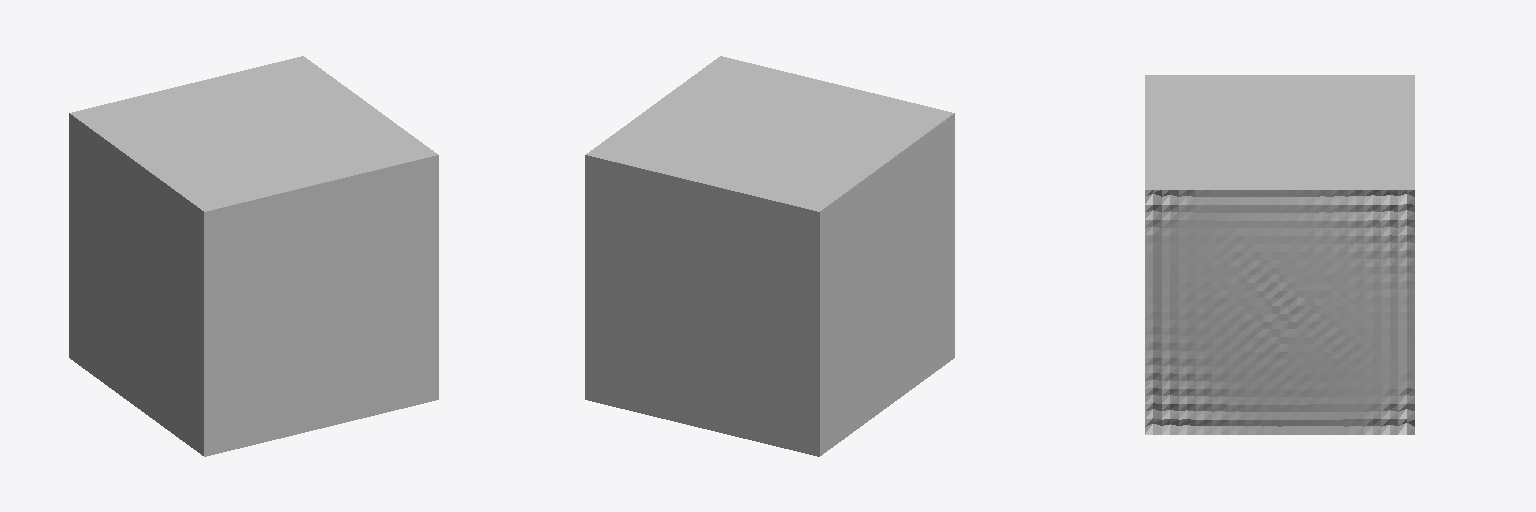
The model's file is optimize_result_4.obj.
3 views of the same model, side by side, from view 1: azimuth 30°, elevation 25°; view 2: azimuth 150°, elevation 25°; view 3: azimuth 270°, elevation 25° (orthographic).
Visible parts, largest first — view 1: Cube_Cube.001; view 2: Cube_Cube.001; view 3: Cube_Cube.001.
Boxes of the visible parts, <box> form: Cube_Cube.001: <box>69,56,438,456</box>; Cube_Cube.001: <box>585,56,954,456</box>; Cube_Cube.001: <box>1145,75,1414,434</box>.
Size of the model in its own units: 10.17 by 10 by 10.